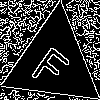F: (29, 37, 78, 93)
